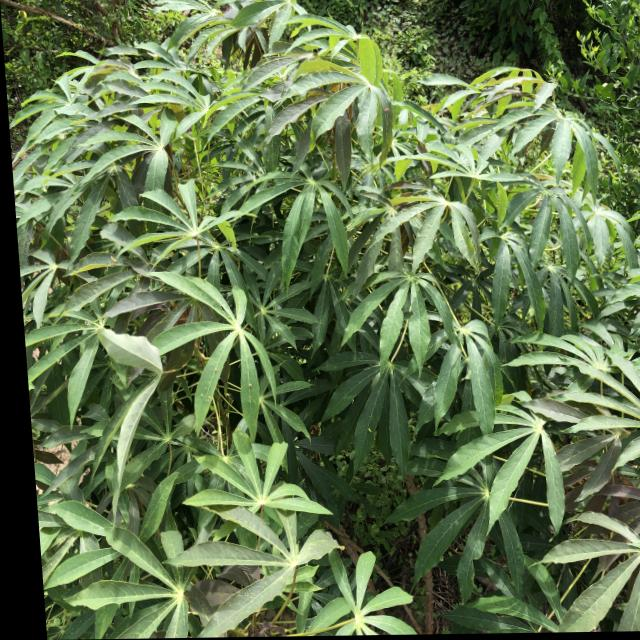Mosca: (266, 321, 282, 340), (246, 375, 260, 394), (364, 420, 376, 442), (109, 250, 120, 266)
